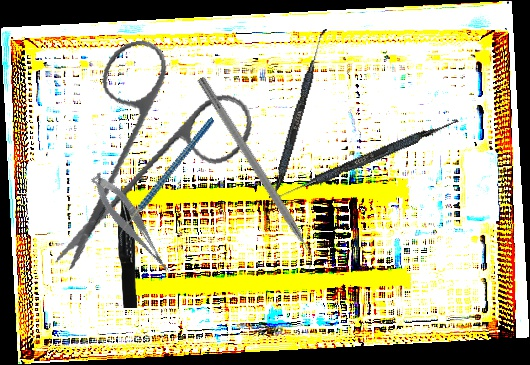Chopper: (186, 75, 324, 278), (88, 117, 245, 246)
Iris Scissors: (19, 24, 272, 272)
Micro Scissor: (86, 165, 175, 283)
Spatula Surgical: (268, 113, 460, 207), (267, 26, 327, 213)
Tissue Forceps: (118, 186, 137, 308)
